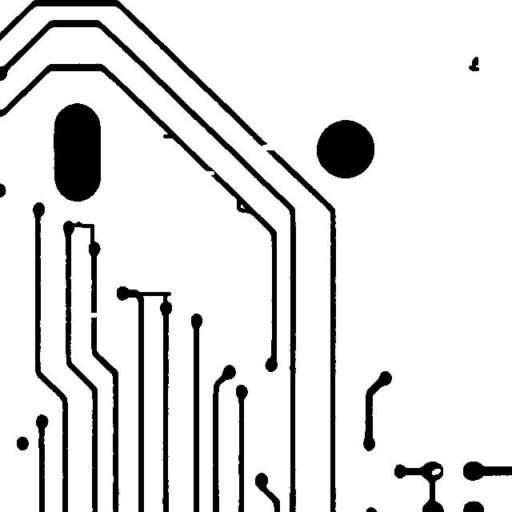copper: (461, 49, 486, 78)
mousebite: (197, 163, 222, 182)
open: (253, 135, 282, 158), (81, 305, 106, 325)
pin-hole: (424, 461, 448, 482)
short: (61, 214, 102, 253), (130, 284, 178, 310)
spur: (229, 191, 258, 221), (155, 126, 181, 146)
